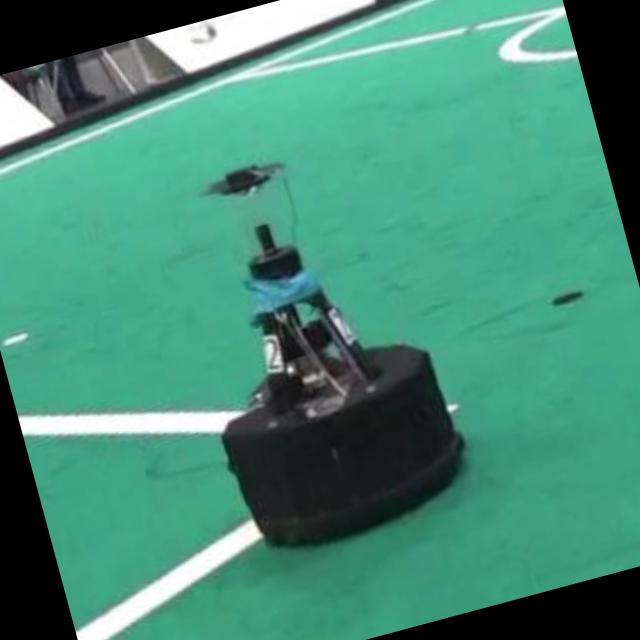robot: (208, 165, 461, 544)
